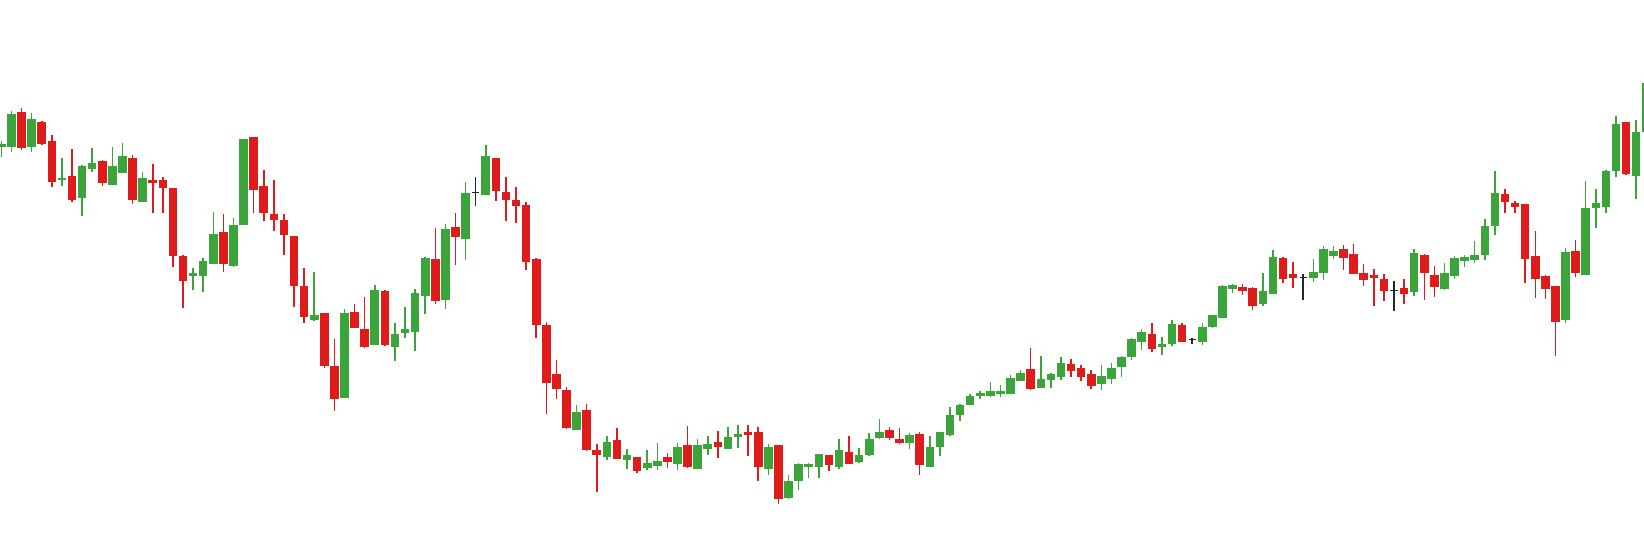buy: (1388, 235, 1573, 352)
sell: (117, 132, 261, 234)
